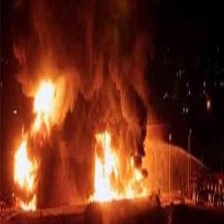fire: (89, 132, 149, 203), (11, 137, 39, 215), (31, 82, 59, 129)
smoke: (10, 1, 162, 138)
